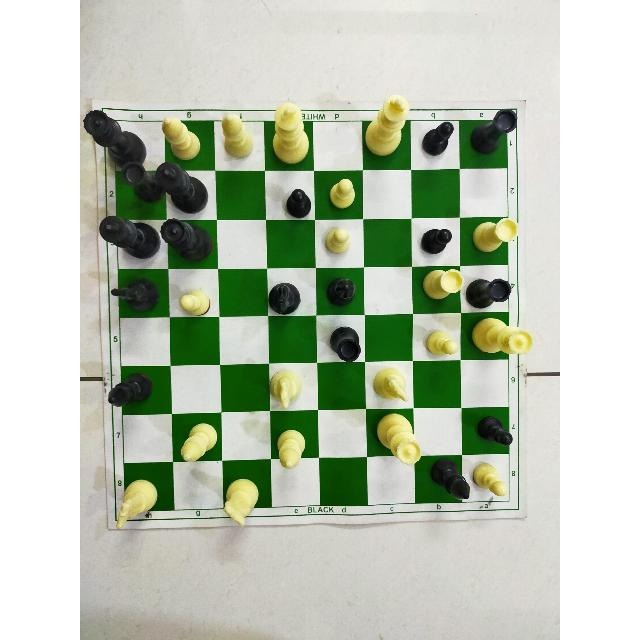black-bishop: (433, 459, 471, 502), (110, 375, 154, 411), (325, 274, 357, 308)
black-king: (98, 217, 162, 259), (157, 164, 209, 210)
black-knight: (111, 274, 163, 313), (268, 281, 301, 317)
black-pawn: (422, 120, 454, 155), (477, 418, 516, 446), (421, 226, 453, 256), (284, 186, 312, 217)
black-queen: (82, 108, 148, 161), (159, 217, 212, 262)
black-rook: (473, 111, 518, 153), (466, 275, 512, 310), (122, 165, 156, 201), (328, 327, 360, 362)
white-bishop: (159, 116, 202, 160), (220, 113, 255, 160), (178, 421, 220, 460), (275, 427, 311, 472)
white-king: (271, 102, 311, 166), (366, 93, 407, 154)
white-knight: (116, 478, 160, 525), (223, 478, 261, 523), (372, 366, 412, 402), (270, 372, 304, 414)
white-pawn: (474, 466, 508, 502), (424, 328, 460, 359), (176, 291, 213, 317), (329, 176, 356, 208), (323, 225, 352, 254)
white-queen: (471, 316, 534, 358), (376, 414, 422, 466)
white-rook: (472, 218, 519, 252), (420, 268, 463, 301)
